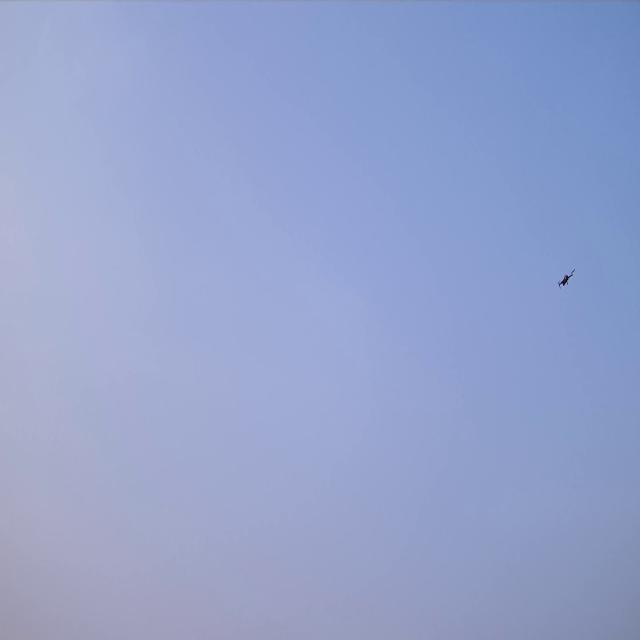UAV: (558, 271, 572, 287)
